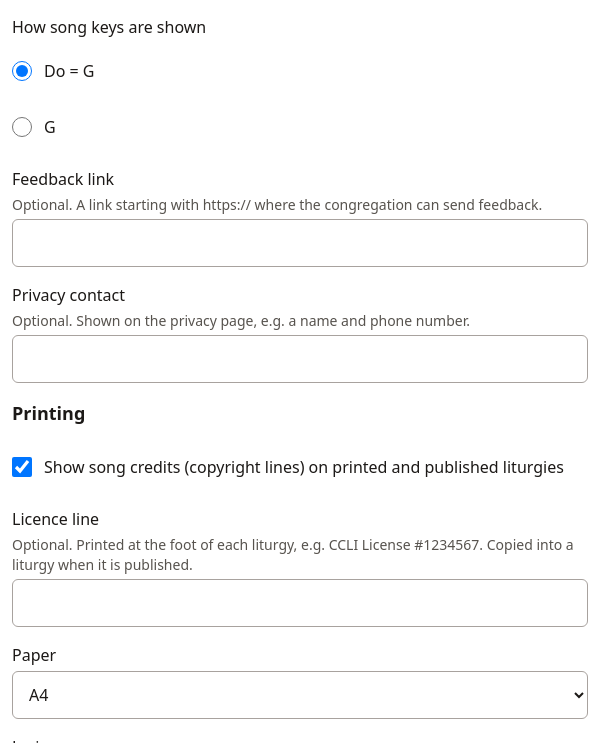
Test case: ChurchSettingsPage › saves changes, clearing empty optional fields
This screenshot has width=605, height=743.
(page scrolled)
Type "Ruth, 0812" into the field labelled "Privacy contact". click: [300, 359]
box: [12,335,588,383]
(page scrolled)
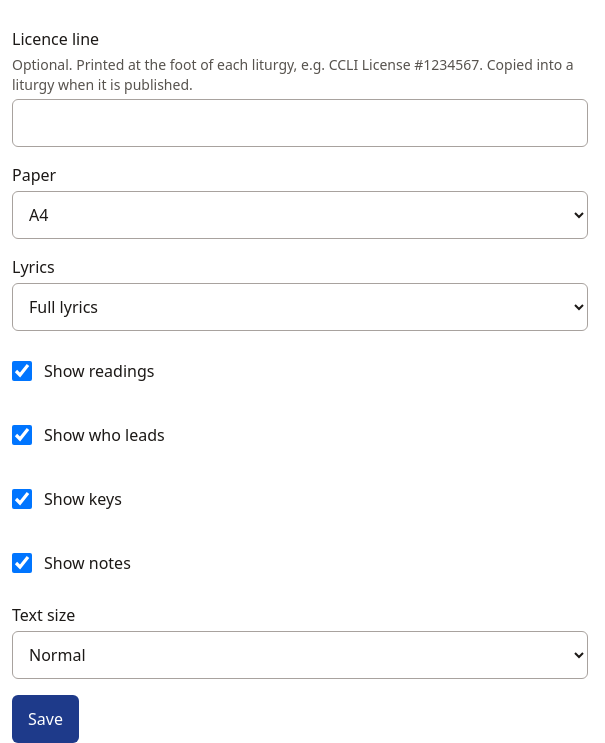
Click the button "Save". click: [45, 719]
box: [12,695,79,742]
(page scrolled)
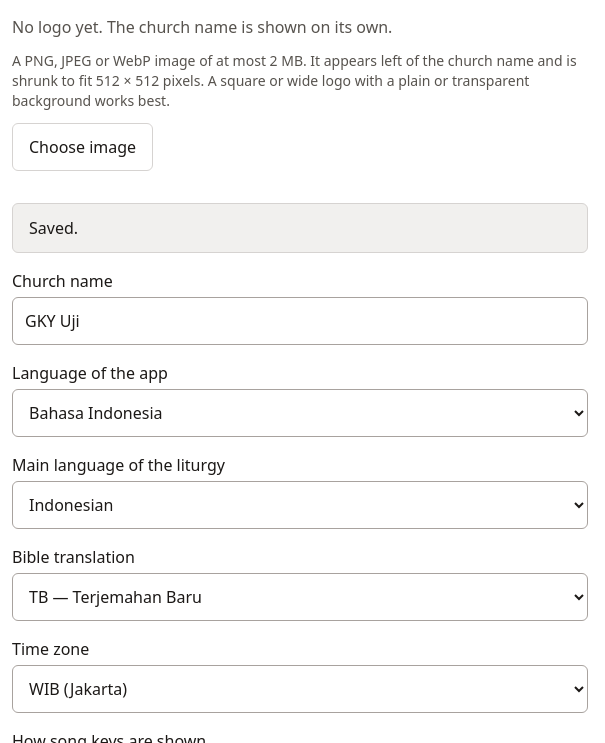
Expected: the text "Saved." is shown, [12,203,588,253]
